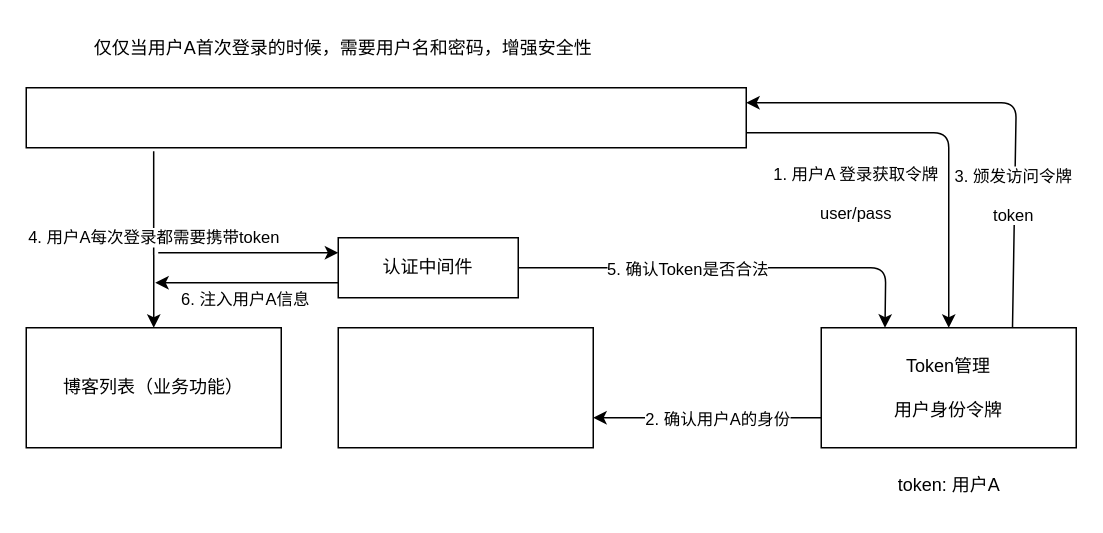
This 1103x533 diagram has some shape labels left out. The shapes that lost their labels are listed below. From the top down, each one's centre as x and y in pixels, then its label:
the point at 385,117: 浏览器
the point at 465,387: 用户管理 作者/访客
